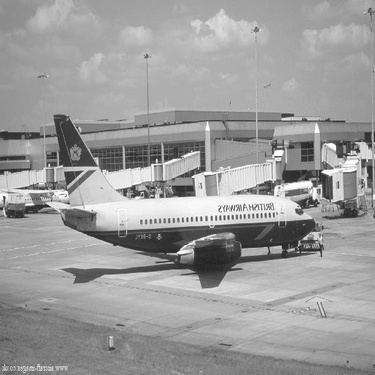airplane: (38, 98, 327, 278)
